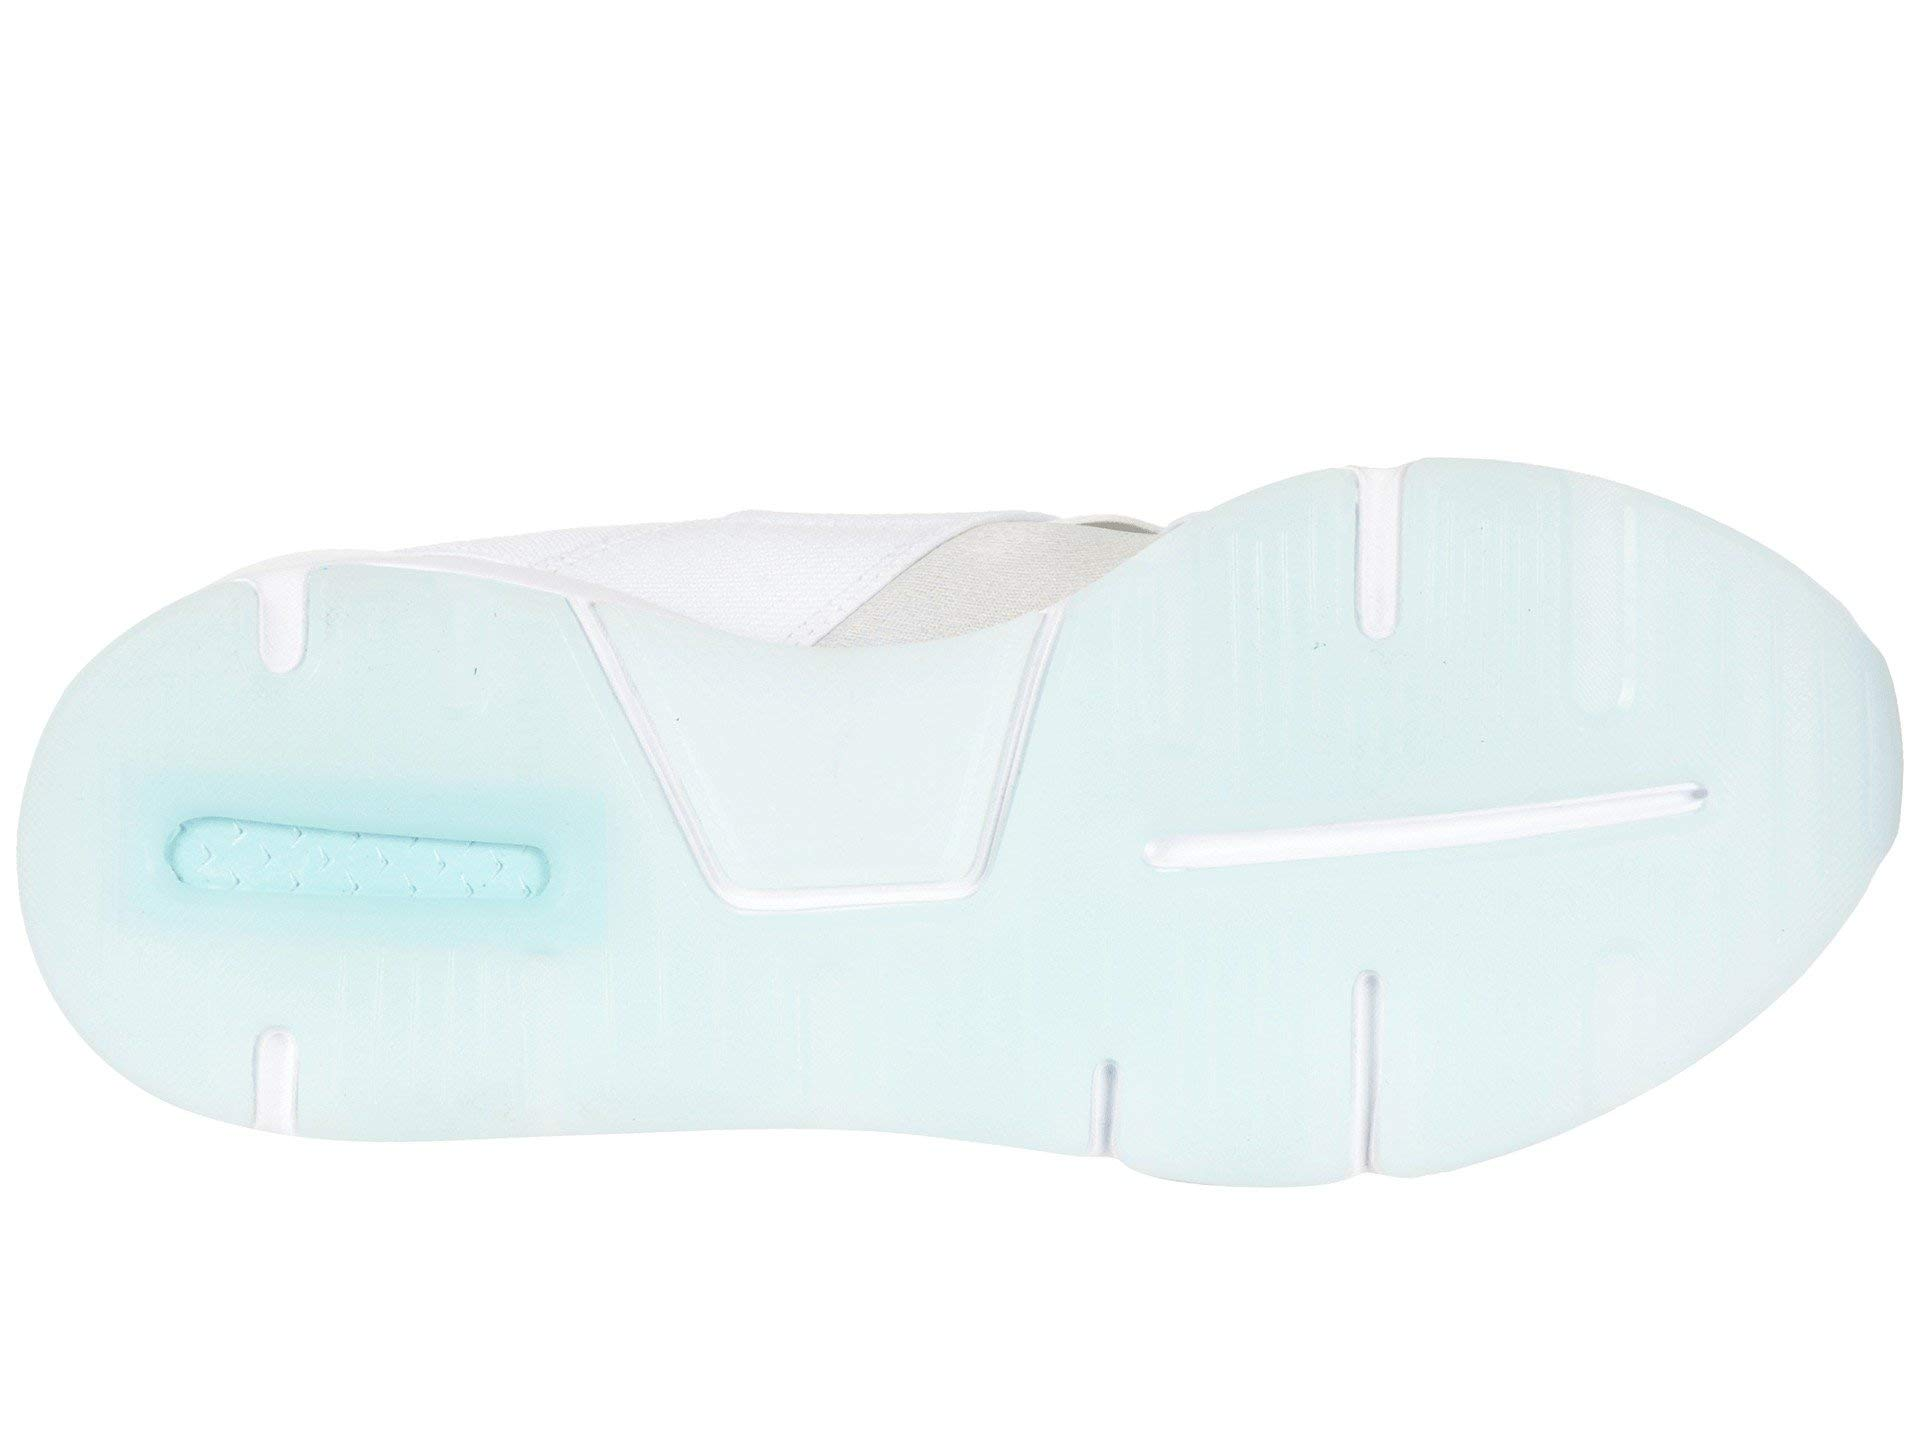chevron: (183, 820, 540, 905)
line: (1114, 756, 1742, 883)
quad: (568, 593, 1104, 929)
